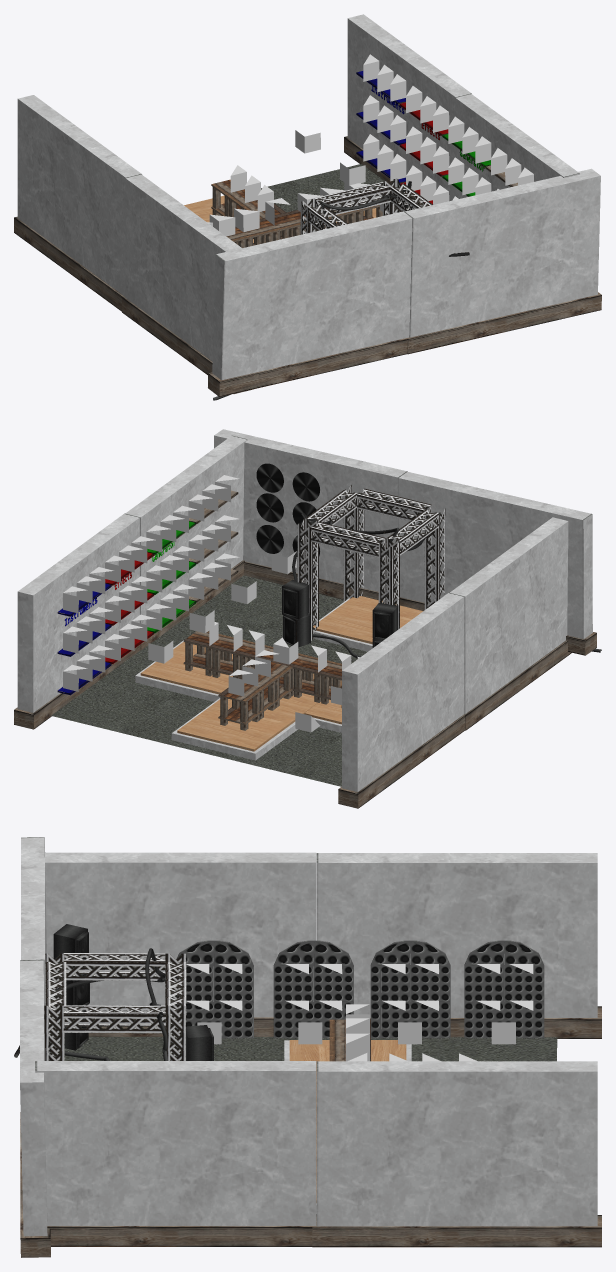
Rendered from base_music_shop.glb.
3 renders of one model, top to bottom at view 1: azimuth 30°, elevation 25°; view 2: azimuth 150°, elevation 25°; view 3: azimuth 270°, elevation 25°, orthographic. The views are drawn at different scales.
Visible parts, largest first — view 1: world, display.{zone:pane10}.002; view 2: world, placement.034; view 3: world, camera.{show:pane1,order:4}.002, camera.{show:pane3,order:6}.004.
Part boxes in pixels (x1,y1,x2,y2): world: [14, 14, 601, 400]; display.{zone:pane10}.002: [234, 208, 259, 232]; world: [14, 429, 601, 808]; placement.034: [273, 637, 298, 664]; world: [14, 837, 601, 1257]; camera.{show:pane1,order:4}.002: [491, 1022, 515, 1044]; camera.{show:pane3,order:6}.004: [298, 1022, 322, 1044].
Bounding box in the file's own units: 28.02 × 9.75 × 28.47.
1 material, 1 textured.
